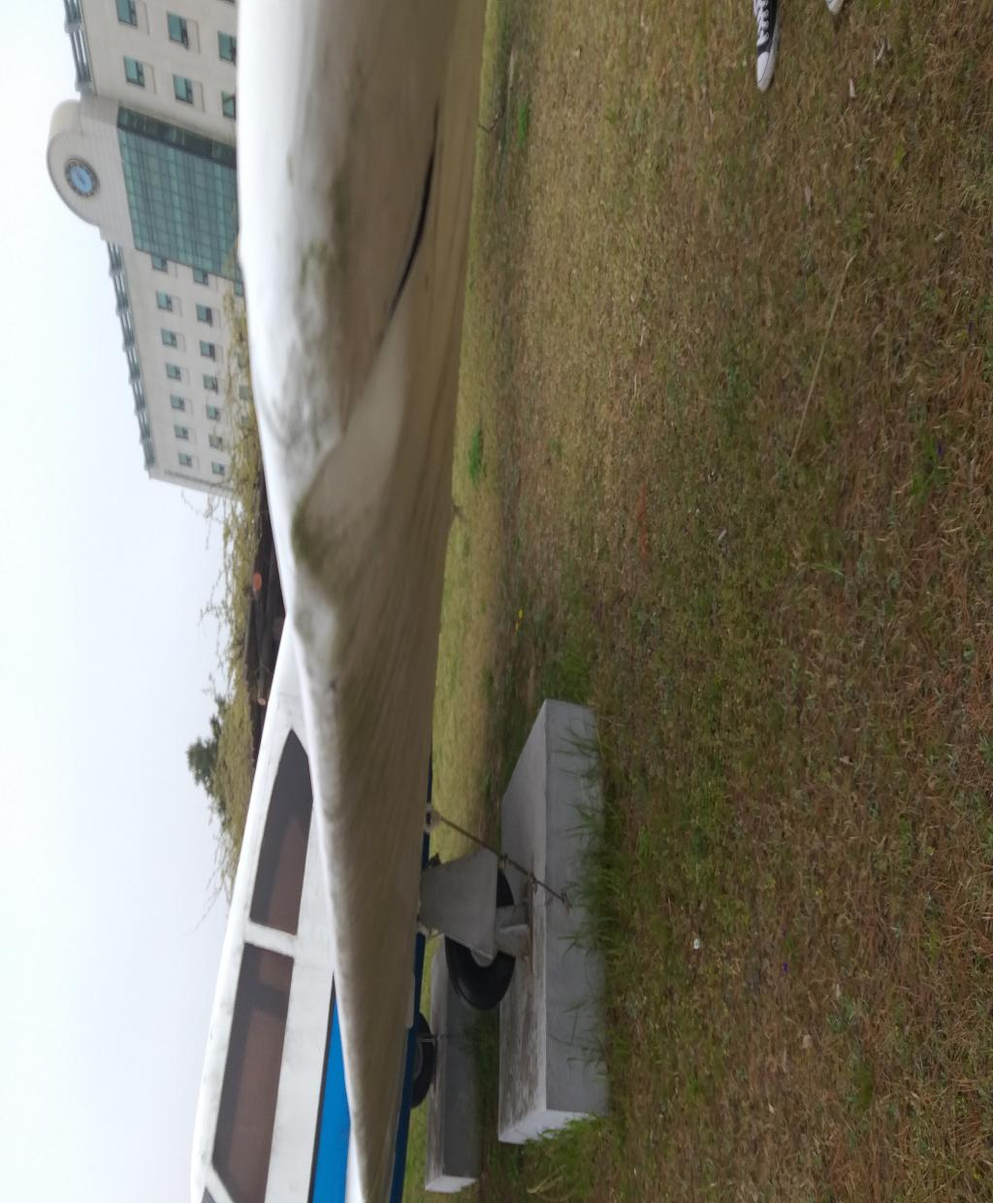dent: (285, 618, 411, 886), (260, 636, 290, 723)
